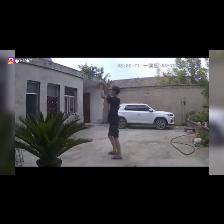person: (97, 84, 122, 159)
